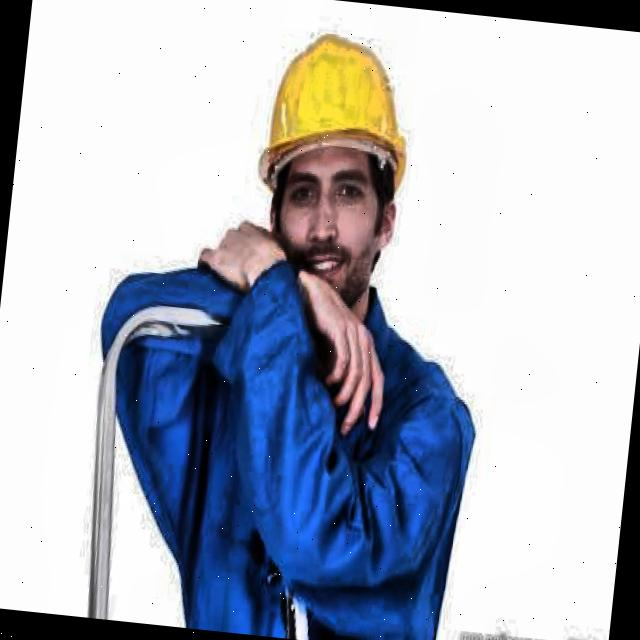helmet: (228, 5, 436, 322)
